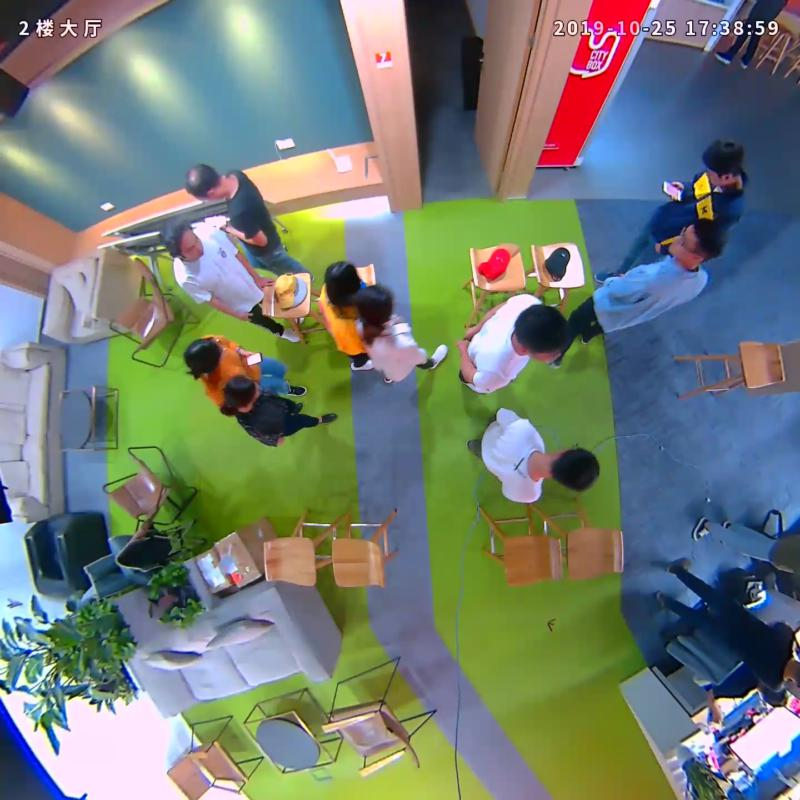head: (514, 305, 569, 364), (667, 217, 725, 263), (548, 447, 601, 491), (702, 139, 743, 186), (160, 220, 204, 261), (324, 260, 360, 304), (182, 337, 222, 375), (183, 164, 224, 201), (357, 283, 394, 323), (221, 375, 259, 410)
